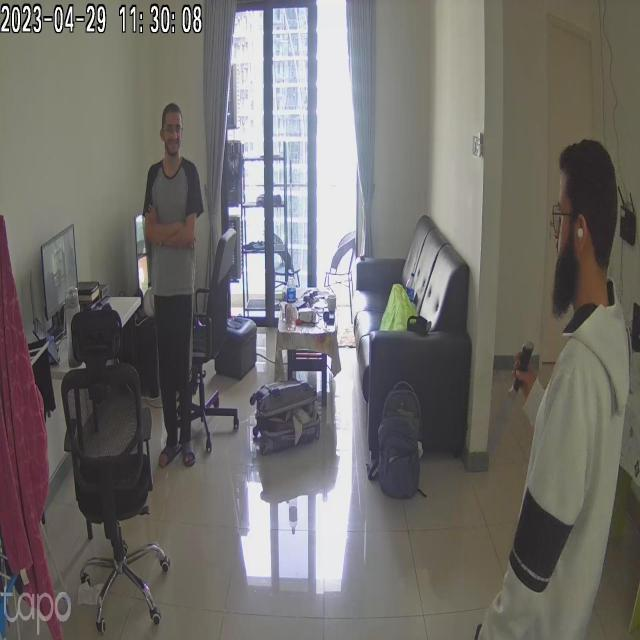Knife: (479, 334, 535, 467)
